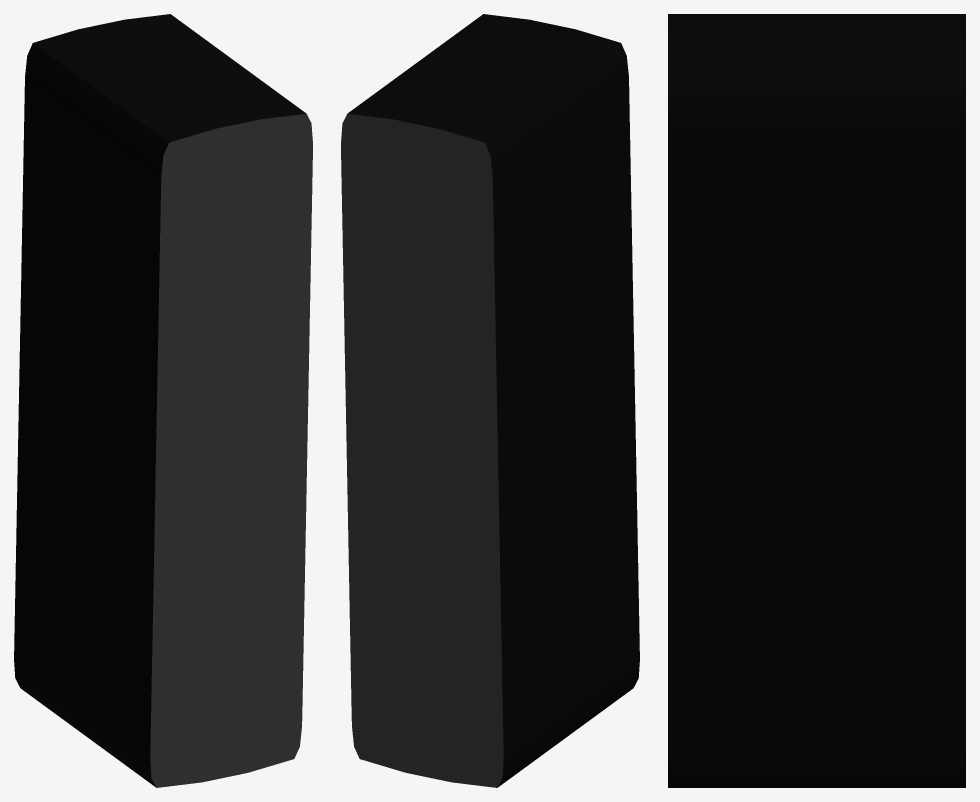
The model's file is 759cfed3-5f36-4126-b25a-8c7e1bb5751d.glb.
3 views of the same model, side by side, from view 1: azimuth 30°, elevation 25°; view 2: azimuth 150°, elevation 25°; view 3: azimuth 270°, elevation 25° (orthographic). The views are drawn at different scales.
Visible parts, largest first — view 1: l_Zyzol_Black; view 2: l_Zyzol_Black; view 3: l_Zyzol_Black.
Part boxes in pixels (x1,y1,x2,y2): l_Zyzol_Black: [14, 14, 312, 787]; l_Zyzol_Black: [341, 14, 639, 787]; l_Zyzol_Black: [668, 14, 965, 787].
Size of what is drawn, in the model's own units: 0.031 by 0.1188 by 0.045.
Materials: 2 (2 with a texture image).
